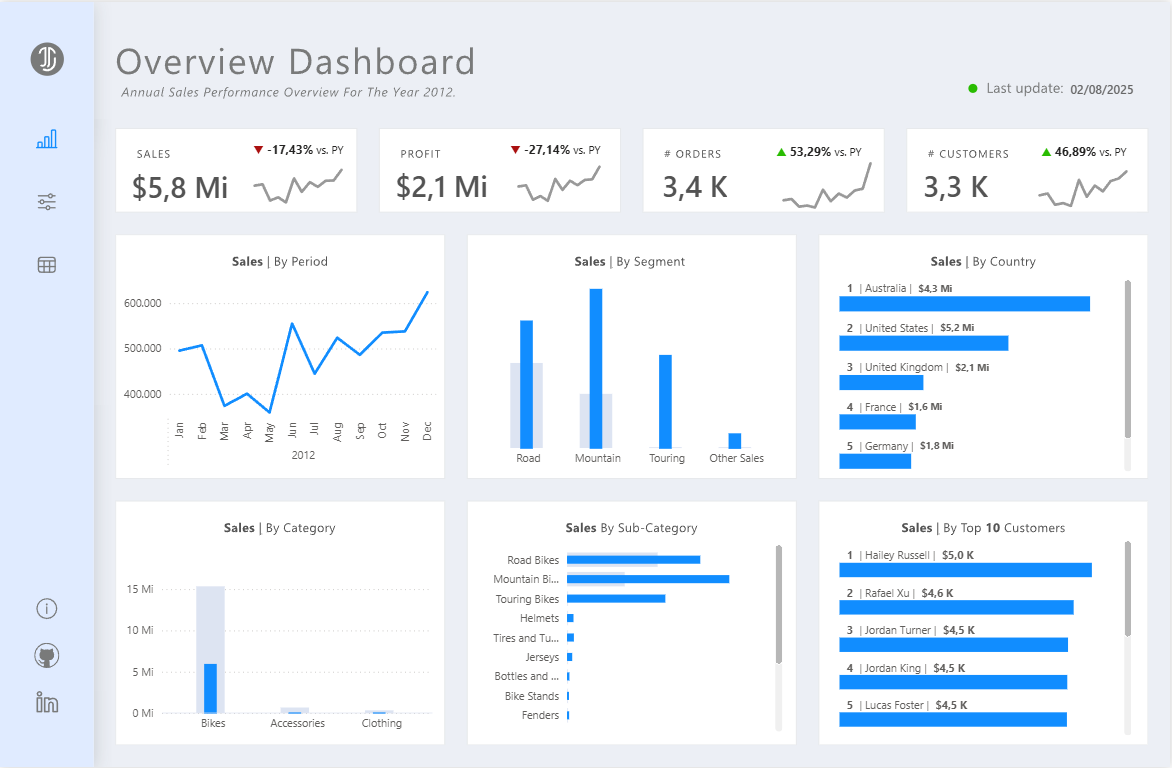

What the dashboard file says about the page in this screenshot:
{"tool":"powerbi","page":{"name":"Página 1","canvas":[1300,850],"ordinal":0},"visuals":[{"type":"card","fields":{"Values":["Calcs.lastupdate"]},"box":[1153.3,24.4,142.2,150],"z":0},{"type":"cardVisual","fields":{"Data":["Calcs.1. Limit inf"]},"box":[1140,116.7,138.9,74.4],"z":1000},{"type":"lineClusteredColumnComboChart","fields":{"Category":["gold_dim_products.category"],"Y":["Calcs.Sales YoY"]},"box":[135.6,608.9,350,211.1],"z":2000},{"type":"clusteredBarChart","fields":{"Y":["Calcs.Total sales"],"Category":["gold_dim_products.subcategory"]},"box":[531.1,590,343.3,225.6],"z":3000},{"type":"clusteredBarChart","fields":{"Category":["gold_dim_customers.country"],"Y":["Calcs.1. Limit inf","Calcs.Total sales"]},"box":[927.8,295.6,334.4,231.1],"z":4000},{"type":"cardVisual","fields":{"Data":["Calcs.Total sales"]},"box":[128.3,158.1,211.7,83.3],"z":5000},{"type":"clusteredBarChart","fields":{"Y":["Calcs.1. Limit inf","Calcs.Total sales"],"Category":["gold_dim_customers.customer_fullname"]},"box":[927.8,585.6,334.4,234.4],"z":6000},{"type":"columnChart","fields":{"Category":["gold_dim_products.product_line"],"Y":["Calcs.Total sales"]},"box":[531.1,295.6,343.3,230],"z":7000},{"type":"lineChart","fields":{"Y":["Calcs.Total sales"],"Category":["dimCalendar.YearNum","dimCalendar.MonthAbbr"]},"box":[132.2,295.6,357.8,230],"z":8000},{"type":"cardVisual","fields":{"Data":["Calcs.Profit"]},"box":[422.2,156.7,211.1,83.3],"z":9000},{"type":"cardVisual","fields":{"Data":["Calcs.orders"]},"box":[718.3,157.2,211.7,83.3],"z":10000},{"type":"cardVisual","fields":{"Data":["Calcs.customers"]},"box":[1008.3,157.2,211.7,83.3],"z":11000},{"type":"lineChart","fields":{"Category":["dimCalendar.Date.Variation.Hierarquia de datas.Ano","dimCalendar.Date.Variation.Hierarquia de datas.Trimestre","dimCalendar.Date.Variation.Hierarquia de datas.Mês","dimCalendar.Date.Variation.Hierarquia de datas.Dia"],"Y":["Calcs.customers"]},"box":[1140,162.2,126.7,72.2],"z":13000},{"type":"lineChart","fields":{"Category":["dimCalendar.Date.Variation.Hierarquia de datas.Ano","dimCalendar.Date.Variation.Hierarquia de datas.Trimestre","dimCalendar.Date.Variation.Hierarquia de datas.Mês","dimCalendar.Date.Variation.Hierarquia de datas.Dia"],"Y":["Calcs.orders"]},"box":[855.6,162.2,126.7,73.3],"z":14000},{"type":"lineChart","fields":{"Y":["Calcs.Profit"],"Category":["dimCalendar.Date.Variation.Hierarquia de datas.Ano","dimCalendar.Date.Variation.Hierarquia de datas.Trimestre","dimCalendar.Date.Variation.Hierarquia de datas.Mês"]},"box":[561.1,162.2,120,73.3],"z":15000},{"type":"lineChart","fields":{"Y":["Calcs.Total sales"],"Category":["dimCalendar.Date.Variation.Hierarquia de datas.Ano","dimCalendar.Date.Variation.Hierarquia de datas.Trimestre","dimCalendar.Date.Variation.Hierarquia de datas.Mês","dimCalendar.Date.Variation.Hierarquia de datas.Dia"]},"box":[267.8,162.2,126.7,74.4],"z":16000},{"type":"cardVisual","fields":{"Data":["Calcs.1. Limit inf"]},"box":[264.4,114.4,155.6,74.4],"z":17000},{"type":"cardVisual","fields":{"Data":["Calcs.1. Limit inf"]},"box":[550,114.4,151.1,74.4],"z":18000},{"type":"cardVisual","fields":{"Data":["Calcs.1. Limit inf"]},"box":[845.6,116.7,164.4,74.4],"z":19000},{"type":"actionButton","box":[28.9,761.1,50,40],"z":20001},{"type":"actionButton","box":[27.8,706.7,50,40],"z":20002},{"type":"card","fields":{"Values":["Calcs.White"]},"box":[27.8,653.3,50,41.1],"z":20003}]}

Visuals, with their boxes on the page's 1300x850 design canvas (x1, y1, x2, y2). These are canvas units, not pixel positions in the 1172x768 screenshot, which may show the page scaled, cropped or inside an application window:
card - Calcs.lastupdate: bbox=[1153, 24, 1296, 174]
cardVisual - Calcs.1. Limit inf: bbox=[1140, 117, 1279, 191]
lineClusteredColumnComboChart - gold_dim_products.category x Calcs.Sales YoY: bbox=[136, 609, 486, 820]
clusteredBarChart - Calcs.Total sales x gold_dim_products.subcategory: bbox=[531, 590, 874, 816]
clusteredBarChart - gold_dim_customers.country x Calcs.1. Limit inf: bbox=[928, 296, 1262, 527]
cardVisual - Calcs.Total sales: bbox=[128, 158, 340, 241]
clusteredBarChart - Calcs.1. Limit inf x Calcs.Total sales: bbox=[928, 586, 1262, 820]
columnChart - gold_dim_products.product_line x Calcs.Total sales: bbox=[531, 296, 874, 526]
lineChart - Calcs.Total sales x dimCalendar.YearNum: bbox=[132, 296, 490, 526]
cardVisual - Calcs.Profit: bbox=[422, 157, 633, 240]
cardVisual - Calcs.orders: bbox=[718, 157, 930, 240]
cardVisual - Calcs.customers: bbox=[1008, 157, 1220, 240]
lineChart - dimCalendar.Date.Variation.Hierarquia de datas.Ano x dimCalendar.Date.Variation.Hierarquia de datas.Trimestre: bbox=[1140, 162, 1267, 234]
lineChart - dimCalendar.Date.Variation.Hierarquia de datas.Ano x dimCalendar.Date.Variation.Hierarquia de datas.Trimestre: bbox=[856, 162, 982, 236]
lineChart - Calcs.Profit x dimCalendar.Date.Variation.Hierarquia de datas.Ano: bbox=[561, 162, 681, 236]
lineChart - Calcs.Total sales x dimCalendar.Date.Variation.Hierarquia de datas.Ano: bbox=[268, 162, 394, 237]
cardVisual - Calcs.1. Limit inf: bbox=[264, 114, 420, 189]
cardVisual - Calcs.1. Limit inf: bbox=[550, 114, 701, 189]
cardVisual - Calcs.1. Limit inf: bbox=[846, 117, 1010, 191]
actionButton: bbox=[29, 761, 79, 801]
actionButton: bbox=[28, 707, 78, 747]
card - Calcs.White: bbox=[28, 653, 78, 694]
